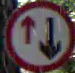Two way: (4, 0, 74, 71)
